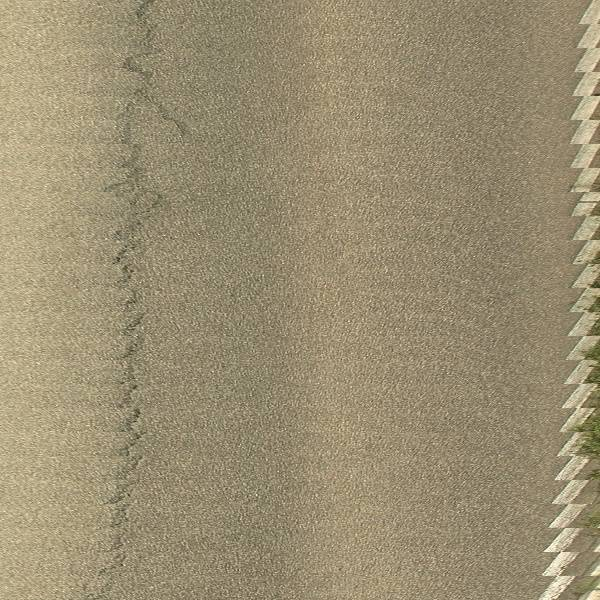road_damage: (98, 165, 165, 600)
